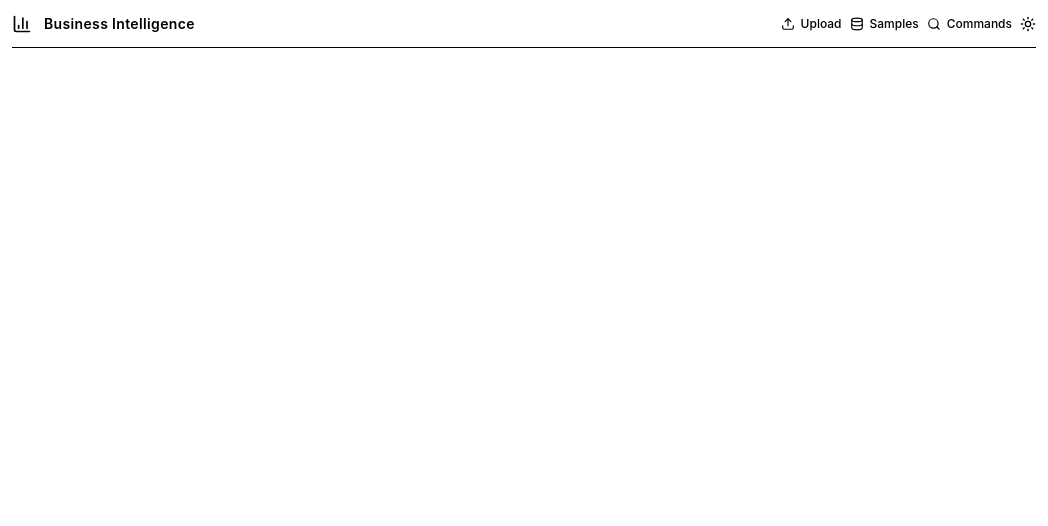
it: Toolbar › shows an error when a sample dataset fails to load
Step 1. Click the button "Samples" → (884, 24), box [850, 16, 919, 32]
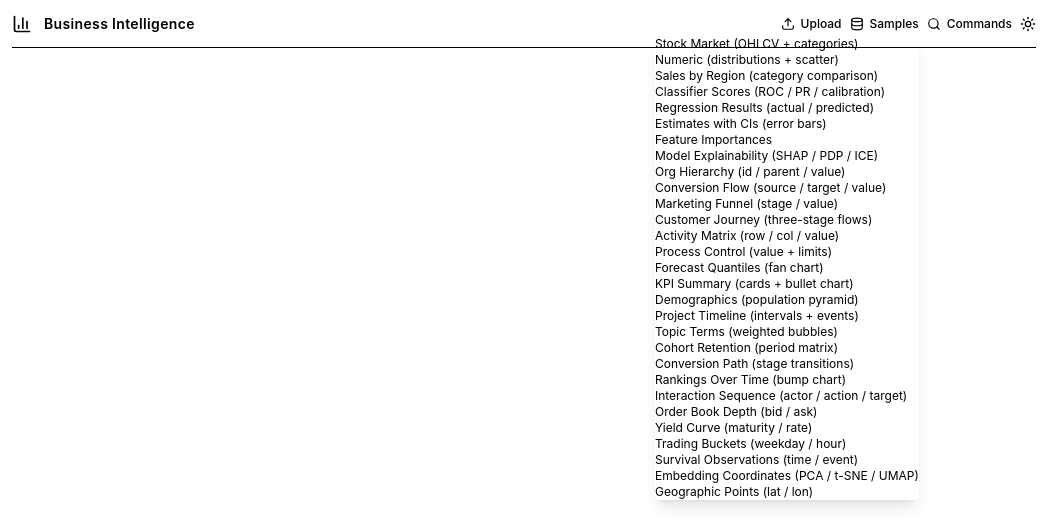
Step 2. Click the menu item "Stock Market (OHLCV + categories)" → (757, 44), box [655, 36, 858, 51]
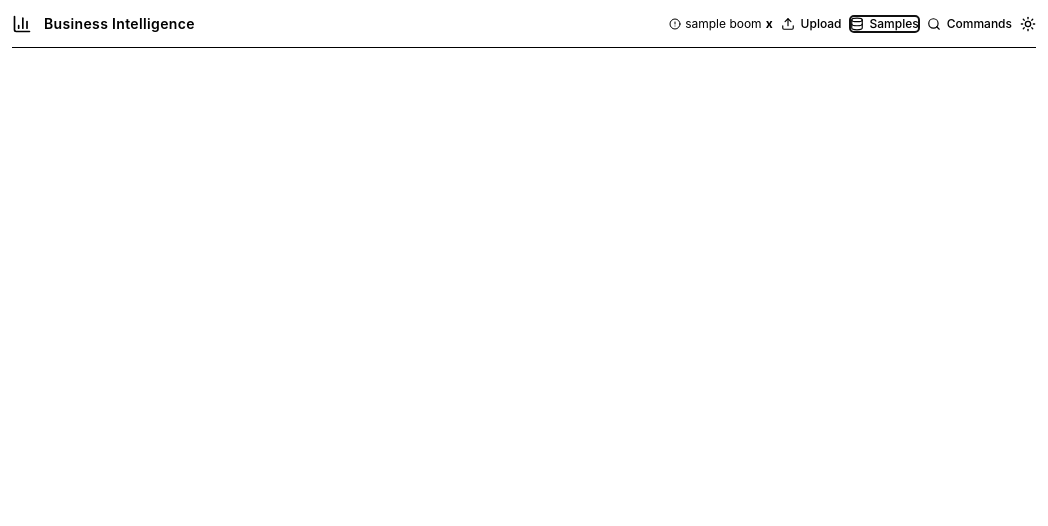
expect the text "sample boom" is shown: met, box [685, 16, 762, 32]
